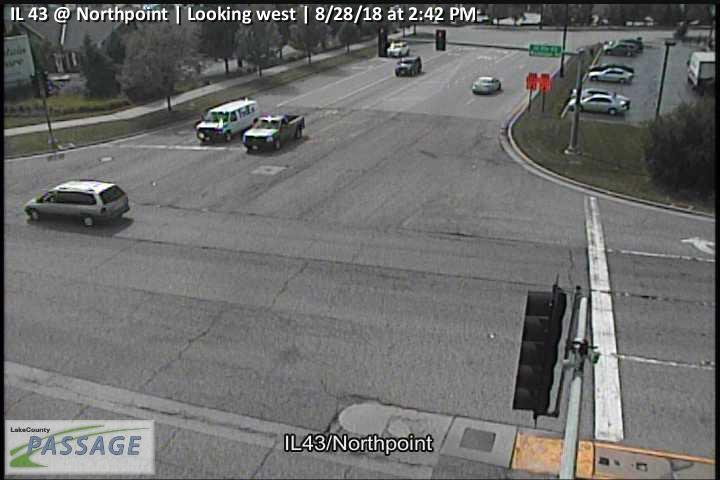SUV: (25, 181, 129, 228), (195, 97, 260, 140), (393, 54, 422, 76)
Sedan: (567, 95, 627, 114), (589, 66, 635, 84), (601, 42, 640, 57), (473, 75, 502, 93), (384, 39, 409, 56)
Truck: (240, 112, 306, 151)
